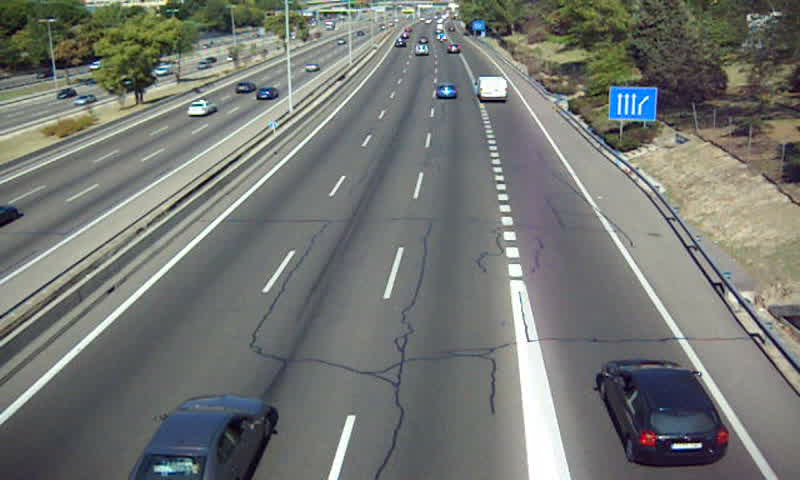car: (597, 362, 727, 463), (132, 395, 272, 480), (434, 84, 458, 101)
van: (475, 77, 507, 102)
